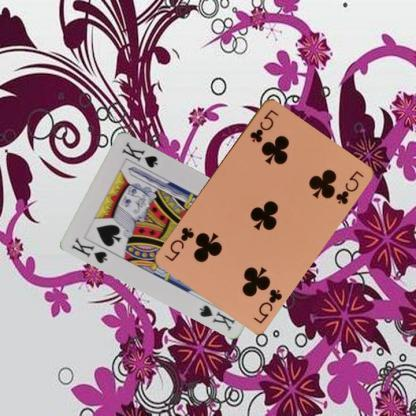5c: (250, 286, 284, 325), (247, 106, 281, 144)
Ks: (70, 235, 110, 264)
